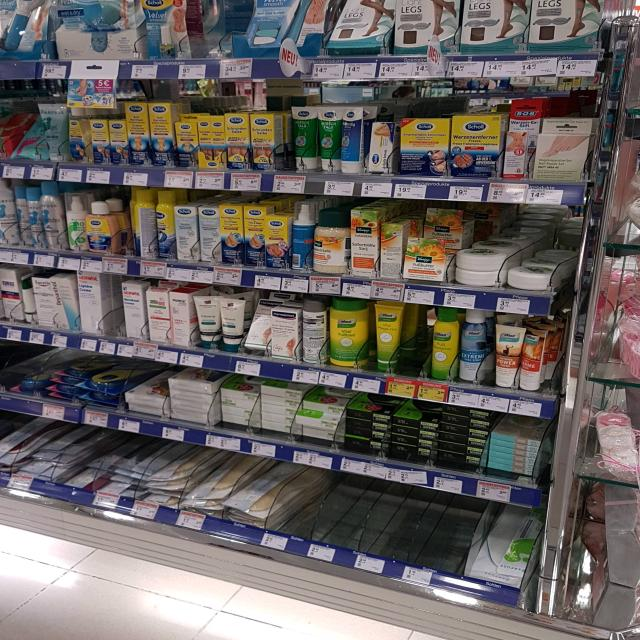empty: (314, 469, 465, 575), (97, 269, 135, 340)
